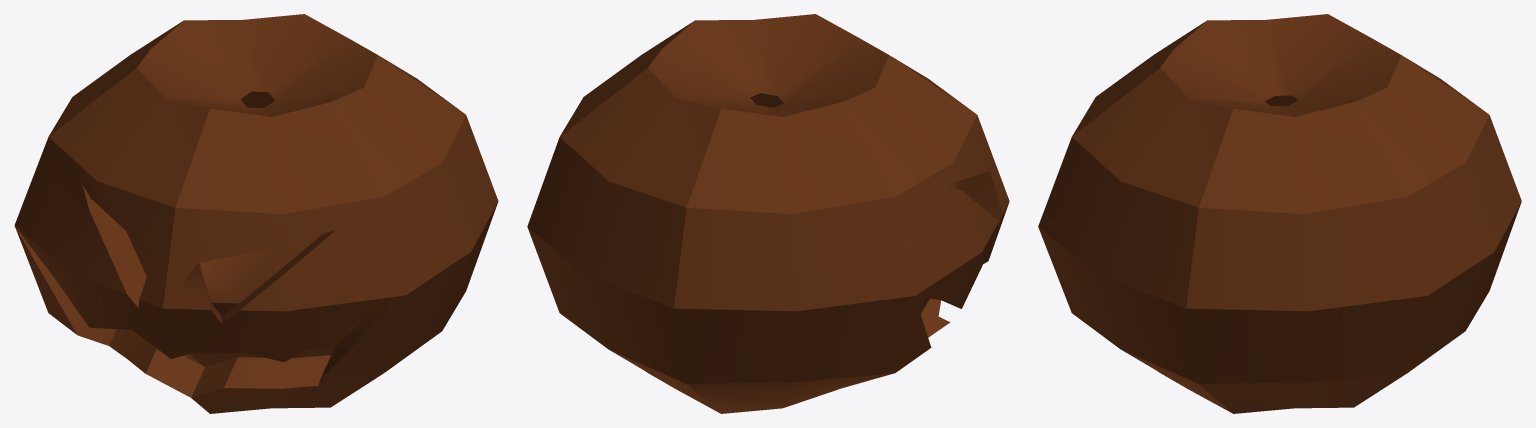
Rendered from pumpkin_pumplkin_0_lev1.glb.
The picture shows the model from 3 angles, left to right: view 1: azimuth 30°, elevation 25°; view 2: azimuth 150°, elevation 25°; view 3: azimuth 270°, elevation 25°; orthographic projection.
Parts seen in each view (by area): view 1: pumpkin_pumplkin_0_lev1; view 2: pumpkin_pumplkin_0_lev1; view 3: pumpkin_pumplkin_0_lev1.
Part boxes in pixels (box(x1,y1,x2,y2)): pumpkin_pumplkin_0_lev1: box(14, 14, 498, 413); pumpkin_pumplkin_0_lev1: box(527, 14, 1009, 413); pumpkin_pumplkin_0_lev1: box(1038, 14, 1521, 413).
Size of the model in its own units: 0.2659 by 0.1947 by 0.2795.
